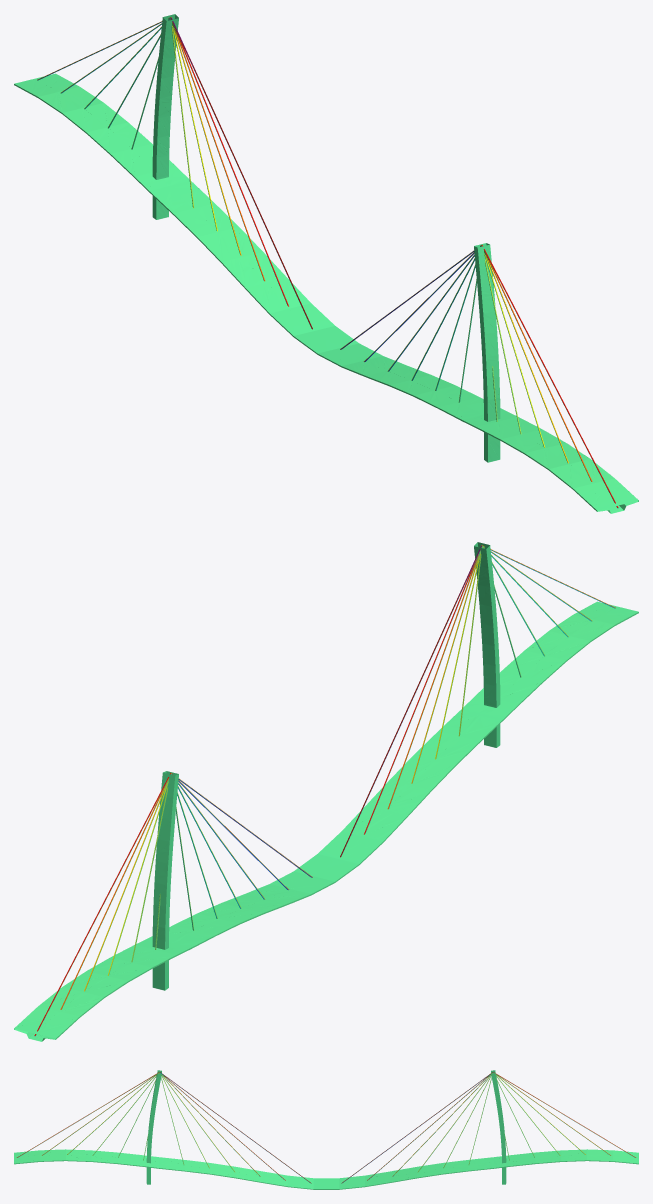
The picture shows the model from 3 angles, top to bottom: view 1: azimuth 30°, elevation 25°; view 2: azimuth 150°, elevation 25°; view 3: azimuth 270°, elevation 25°; orthographic projection. The views are drawn at different scales.
Visible parts, largest first — view 1: beam1_hull_lc1_ampFactor2000_TEST_RENAN; view 2: beam1_hull_lc1_ampFactor2000_TEST_RENAN; view 3: beam1_hull_lc1_ampFactor2000_TEST_RENAN.
Part boxes in pixels (x1,y1,x2,y2): beam1_hull_lc1_ampFactor2000_TEST_RENAN: (14, 14, 638, 513); beam1_hull_lc1_ampFactor2000_TEST_RENAN: (14, 542, 638, 1041); beam1_hull_lc1_ampFactor2000_TEST_RENAN: (14, 1070, 638, 1189).
Size of the model in its own units: 5 by 24.72 by 121.
Materials: 1 (1 with a texture image).
